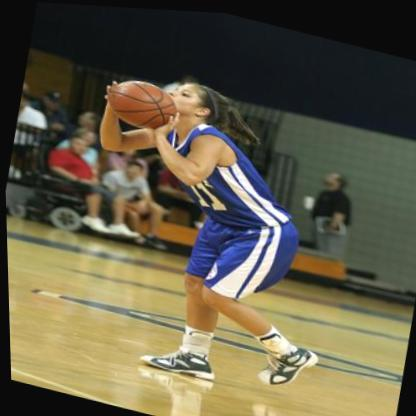basketball: (99, 70, 182, 134)
